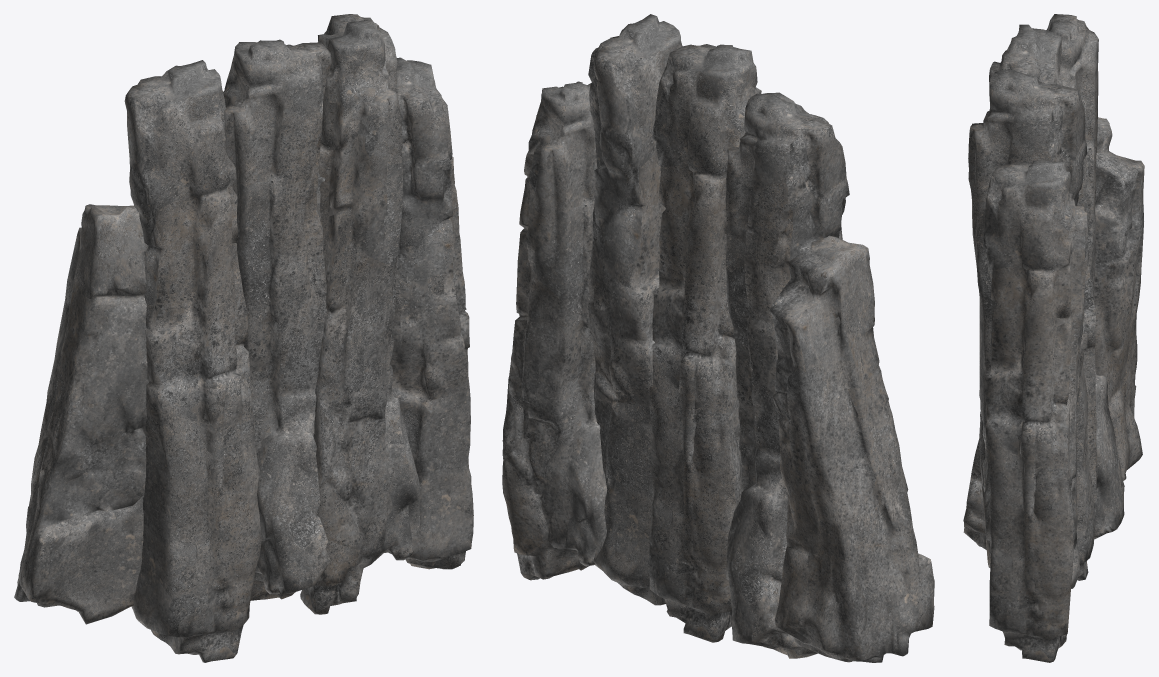
Rendered from SM_Grouped_Rock_3.fbx.
3 renders of one model, left to right at view 1: azimuth 30°, elevation 25°; view 2: azimuth 150°, elevation 25°; view 3: azimuth 270°, elevation 25°, orthographic. The views are drawn at different scales.
Parts seen in each view (by area): view 1: SM_Grouped_Rock_3_LOD0; view 2: SM_Grouped_Rock_3_LOD0; view 3: SM_Grouped_Rock_3_LOD0.
Part boxes in pixels (box(x1,y1,x2,y2)): SM_Grouped_Rock_3_LOD0: box(14, 14, 473, 662); SM_Grouped_Rock_3_LOD0: box(502, 14, 934, 662); SM_Grouped_Rock_3_LOD0: box(963, 14, 1144, 662).
Size of the model in its own units: 1212 by 470 by 1623.
